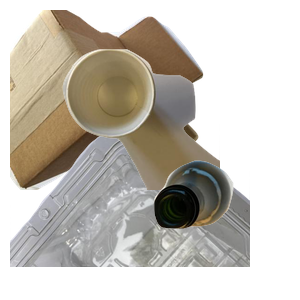cardboard: (10, 10, 206, 190)
glass: (151, 158, 300, 300)
plastic: (10, 120, 250, 300)
trash: (60, 47, 300, 227)
